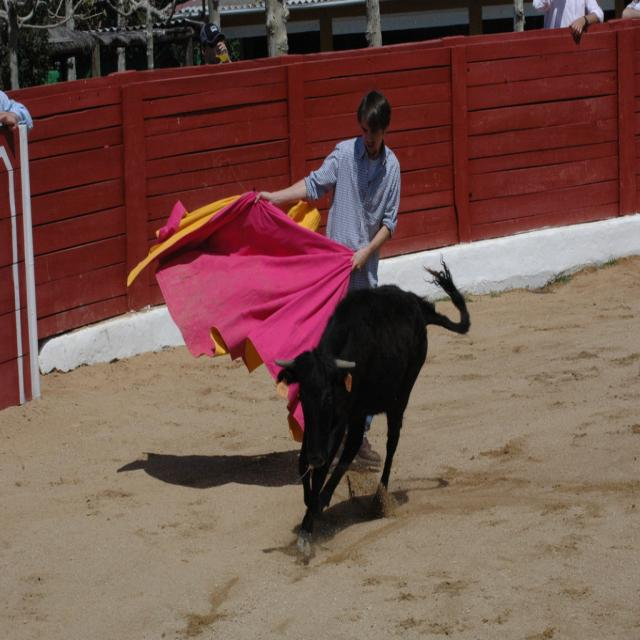Bull: (274, 262, 477, 559)
